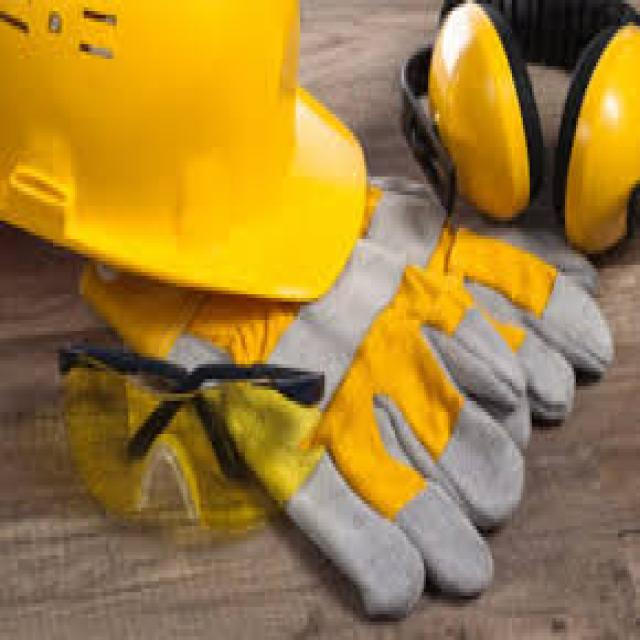glasses: (51, 320, 349, 548)
